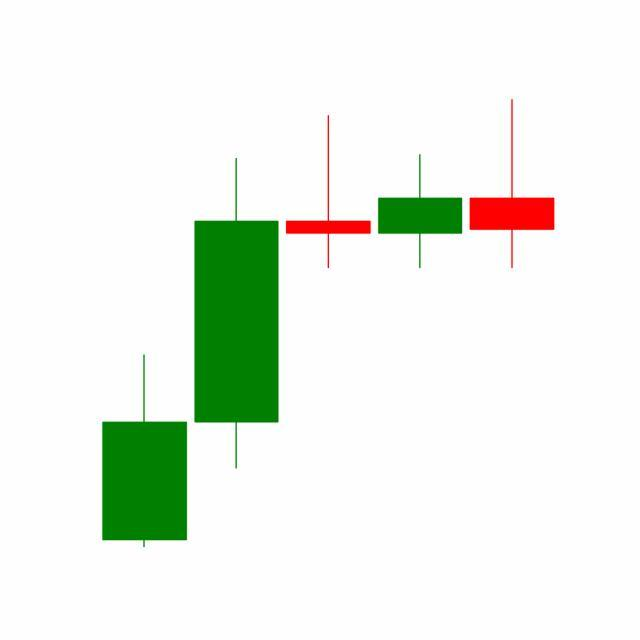Spinning Top: (374, 153, 468, 271)
